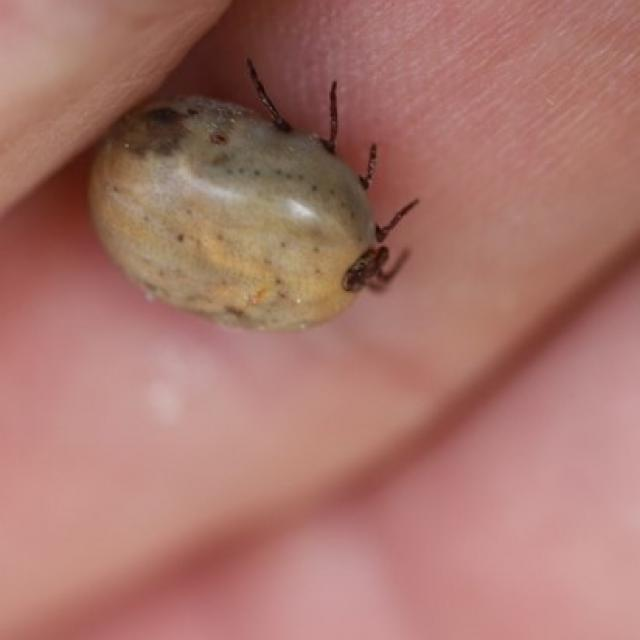Dermacentor Reticulatus-F-Fed: (85, 56, 419, 331)
